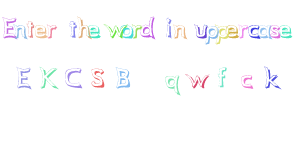B: (112, 64, 138, 92)
C: (63, 65, 87, 91)
E: (9, 62, 36, 92), (1, 14, 16, 44)
K: (36, 64, 61, 91)
S: (87, 64, 110, 92)
a: (260, 21, 271, 43)
c: (236, 68, 260, 93), (248, 23, 261, 43)
d: (140, 13, 160, 42)
e: (227, 18, 239, 44), (88, 23, 103, 41), (280, 21, 294, 40), (35, 19, 47, 41)
f: (213, 64, 233, 92)
h: (77, 14, 89, 42)
i: (160, 16, 175, 42)
k: (261, 62, 284, 92)
n: (173, 19, 190, 41), (16, 22, 27, 43)
o: (120, 22, 134, 44)
p: (208, 23, 218, 49), (217, 24, 229, 45)
q: (161, 69, 185, 99)
r: (47, 21, 60, 42), (238, 21, 249, 44), (132, 22, 143, 42)
s: (270, 21, 281, 43)
t: (25, 18, 36, 40), (68, 18, 77, 40)
u: (193, 20, 208, 44)
w: (183, 68, 211, 91), (104, 20, 122, 42)
